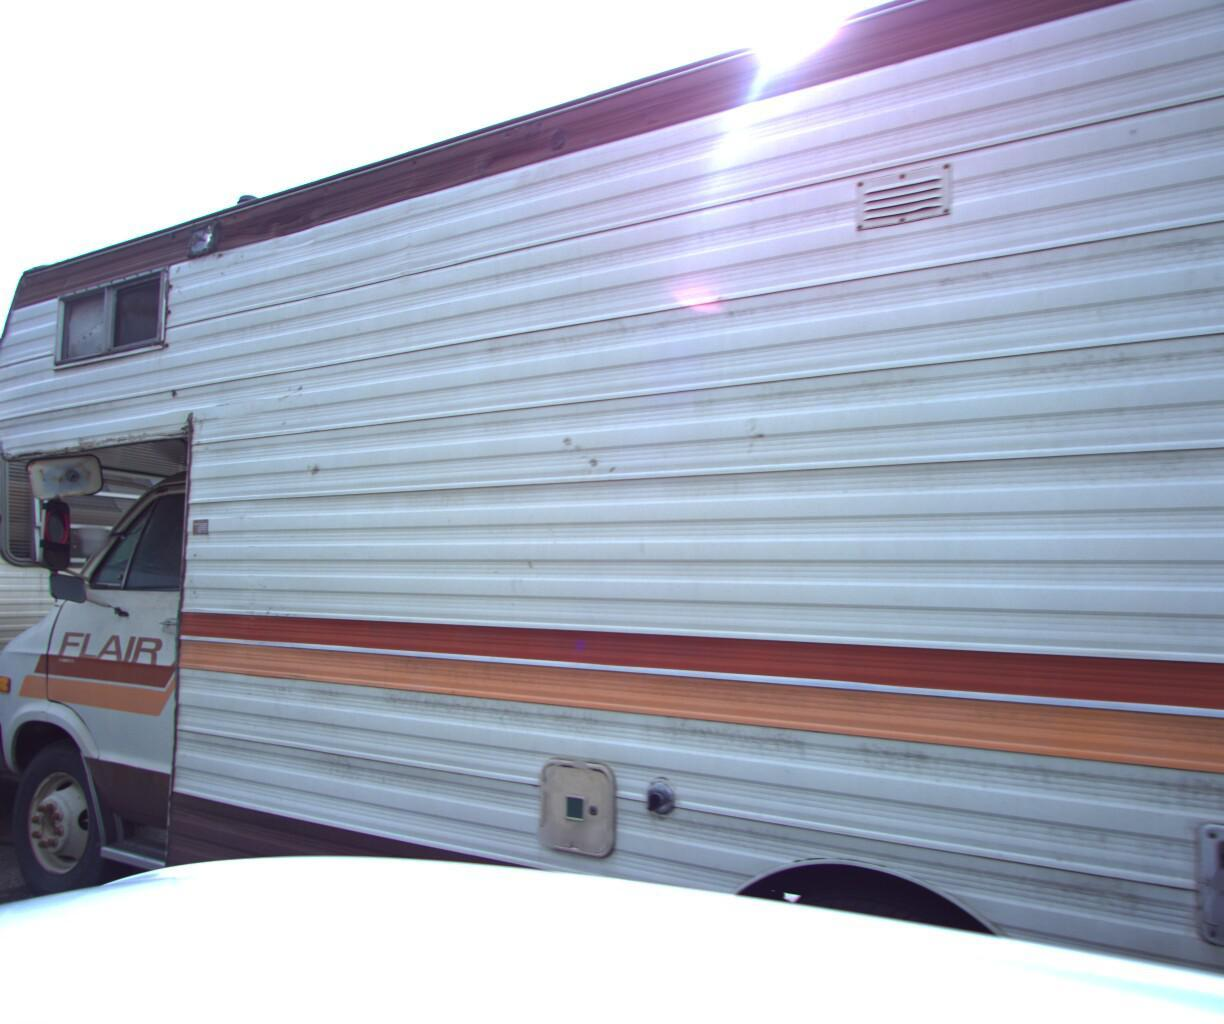other_vehicle: (0, 297, 312, 912)
